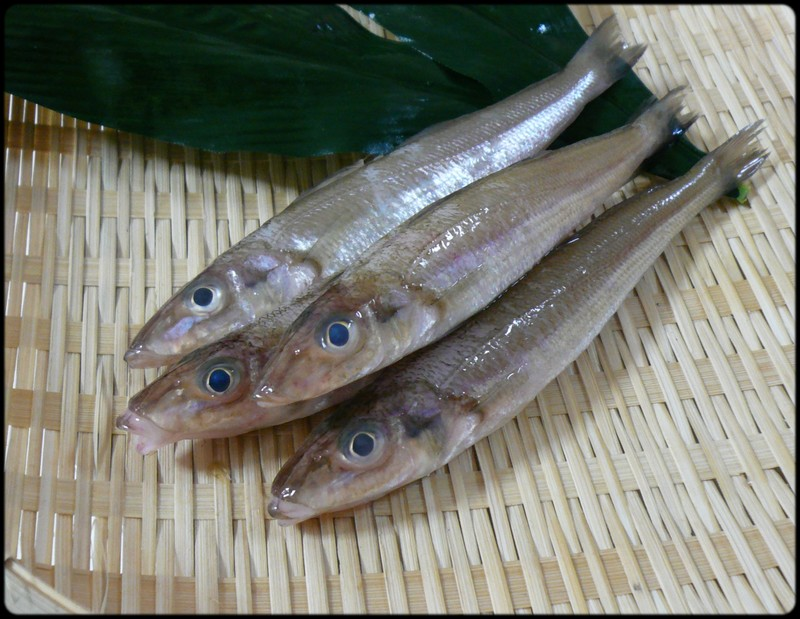kiss: (115, 13, 767, 534)
